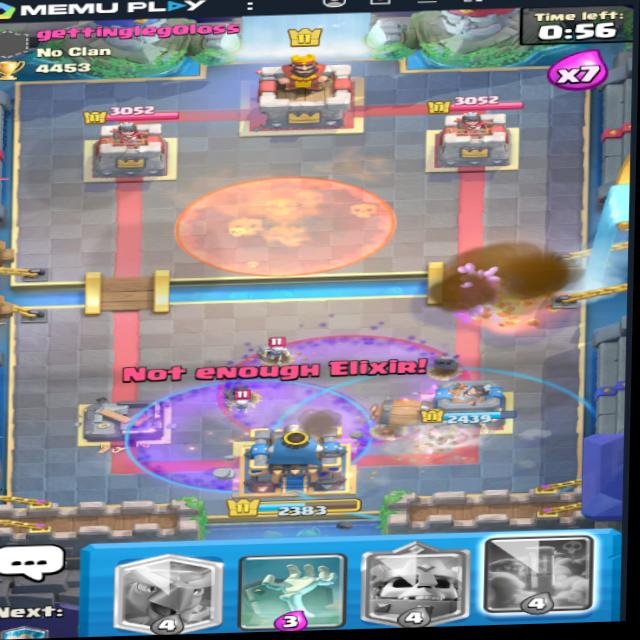graveyard: (221, 322, 470, 451)
poison: (168, 166, 394, 282)
skeleton: (228, 386, 274, 421), (262, 332, 301, 362)
